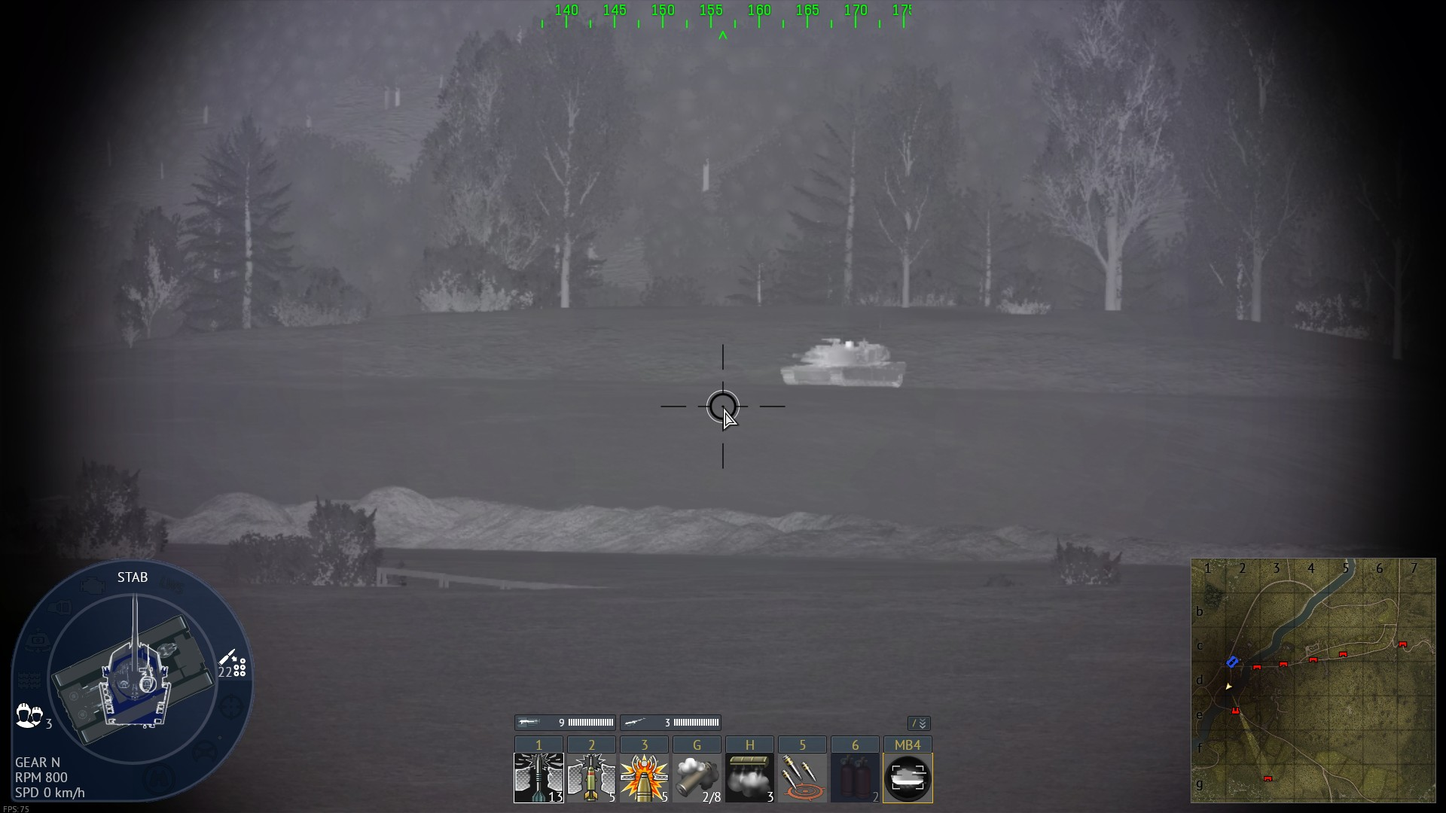abrams: (780, 337, 907, 388)
